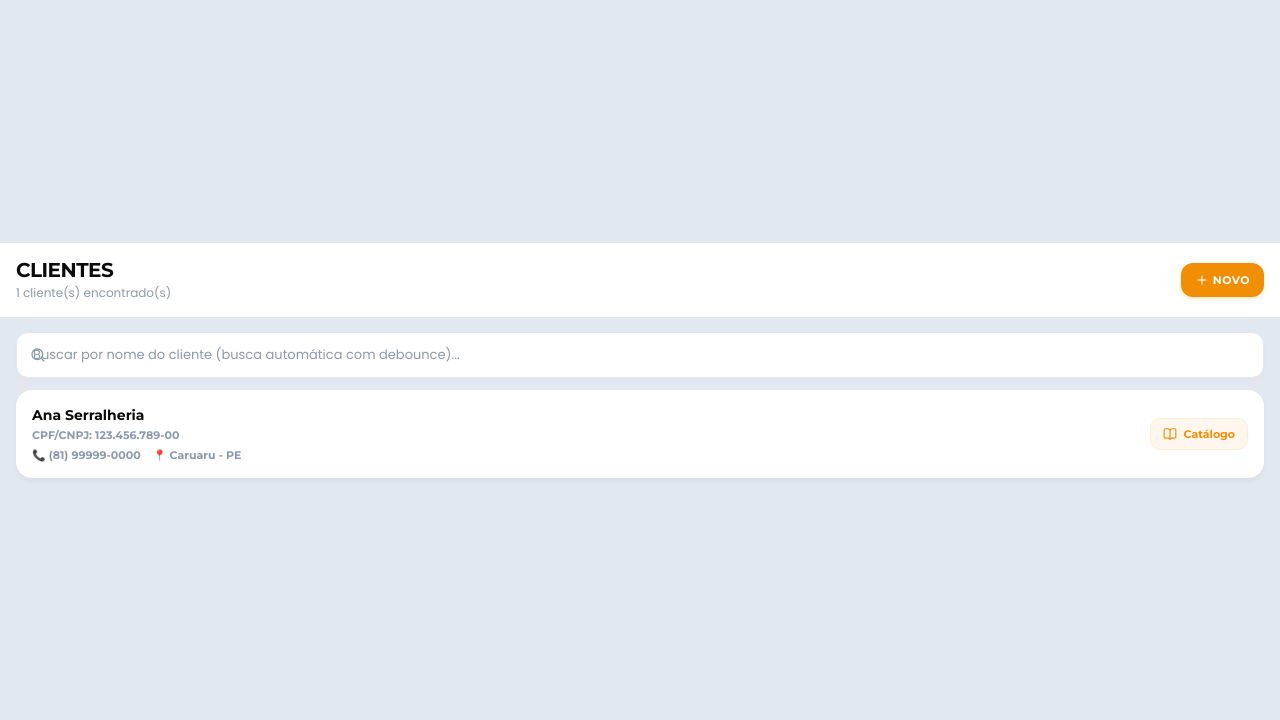
it: Clientes – cadastro › cadastra cliente enviando o payload normalizado e atualiza a lista
Click the button "NOVO": (1222, 280) [1181,262,1264,296]
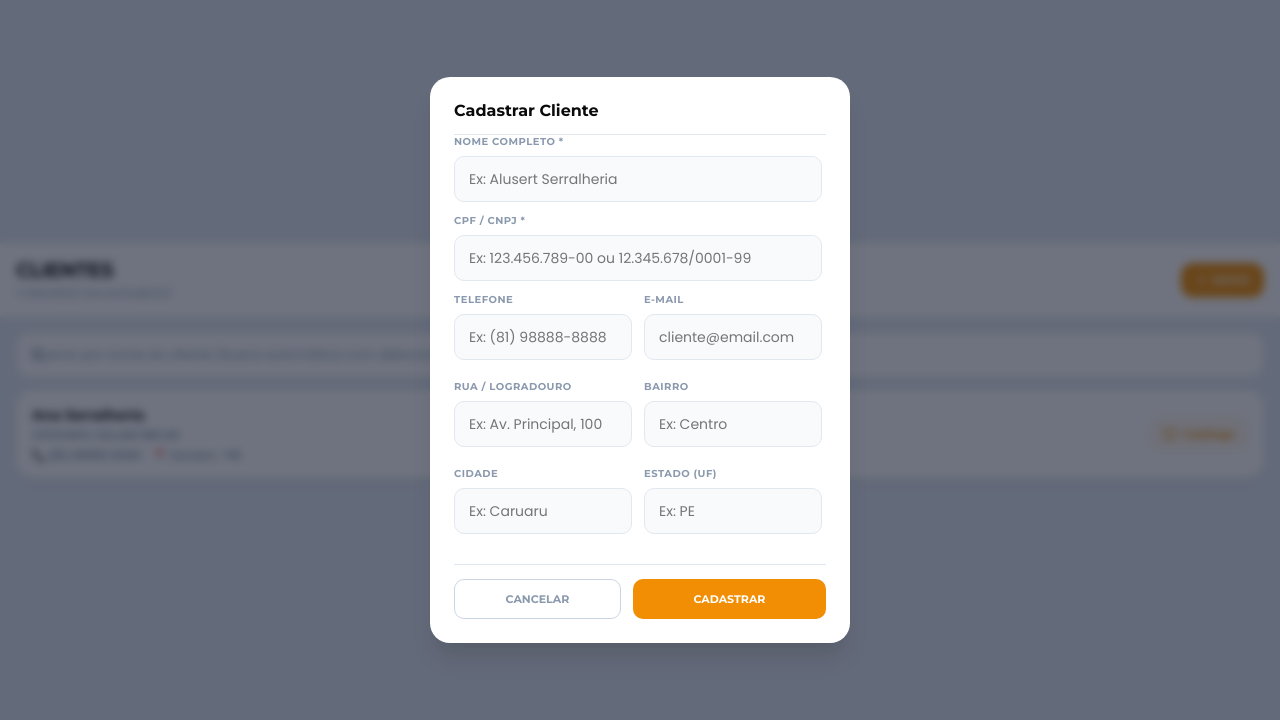
In the field labelled "NOME COMPLETO *": (638, 179) [454,156,822,202], type "  Carlos Obras  "
In the field labelled "CPF / CNPJ *": (638, 258) [454,235,822,281], type "111.222.333-44"
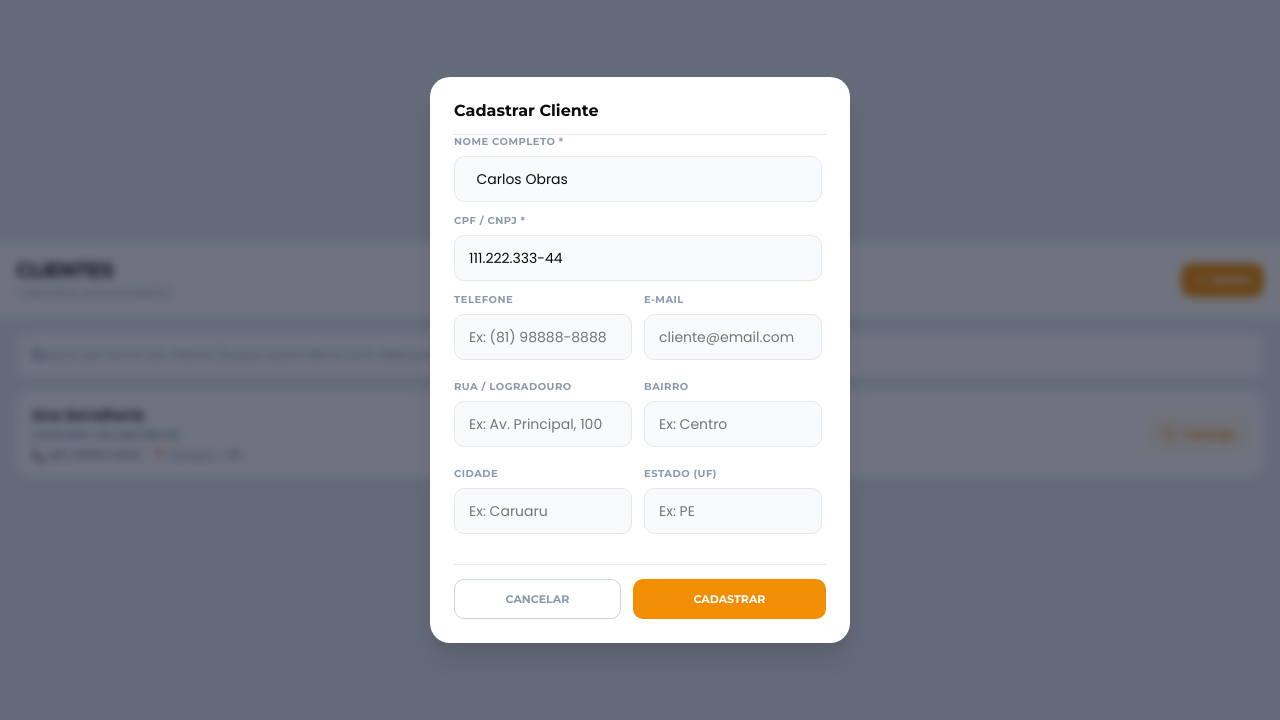
In the field labelled "TELEFONE": (543, 337) [454,314,632,360], type "(81) 98888-1111"
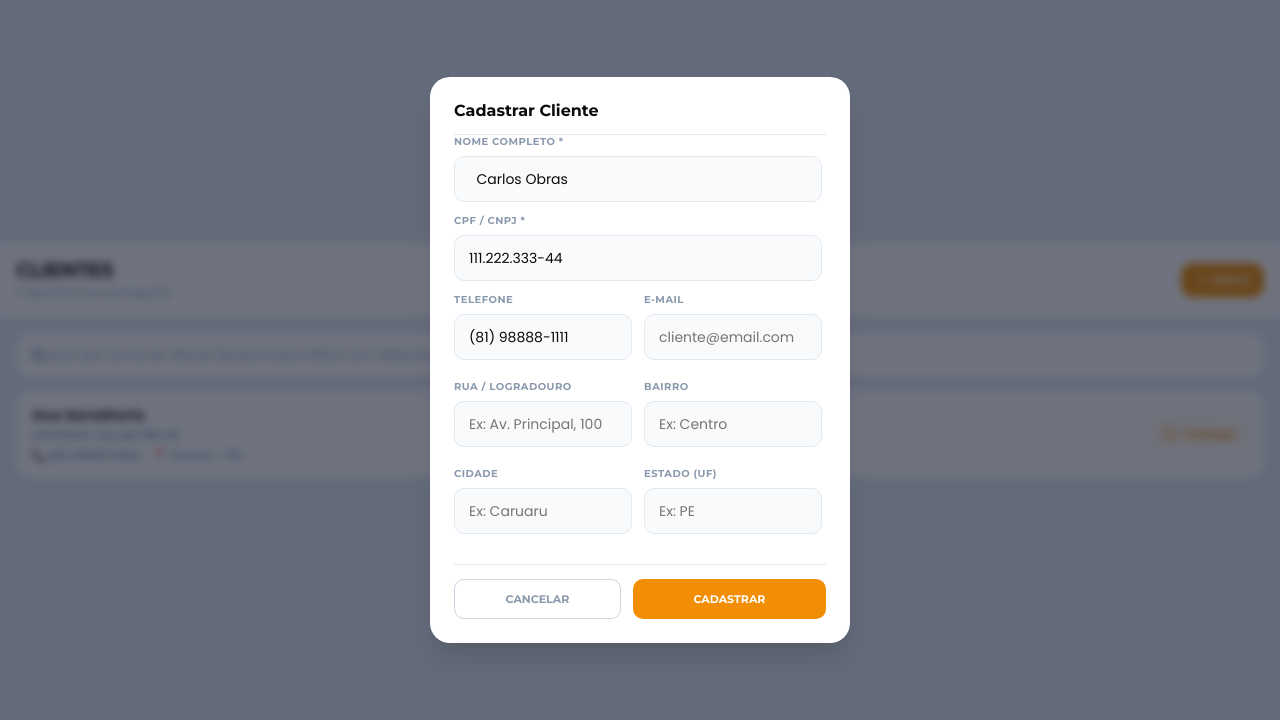
In the field labelled "CIDADE": (543, 511) [454,488,632,534], type "Recife"
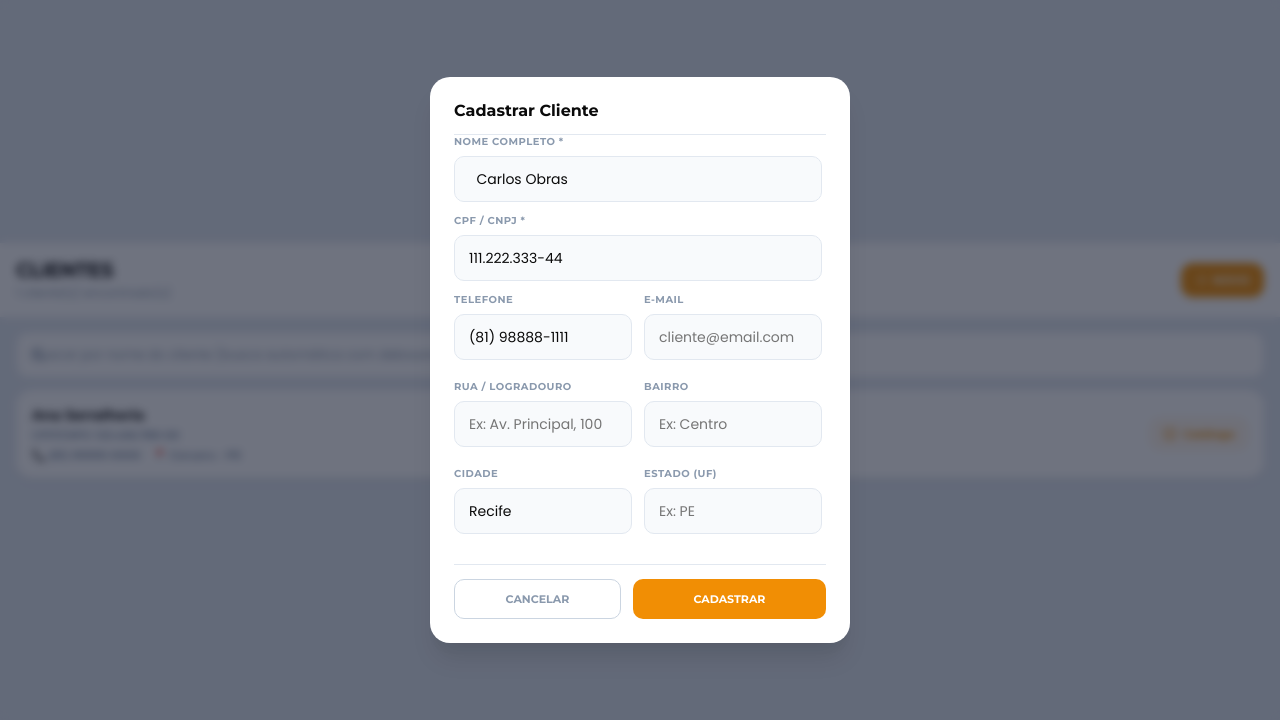
In the field labelled "ESTADO (UF)": (733, 511) [644,488,822,534], type "pe"
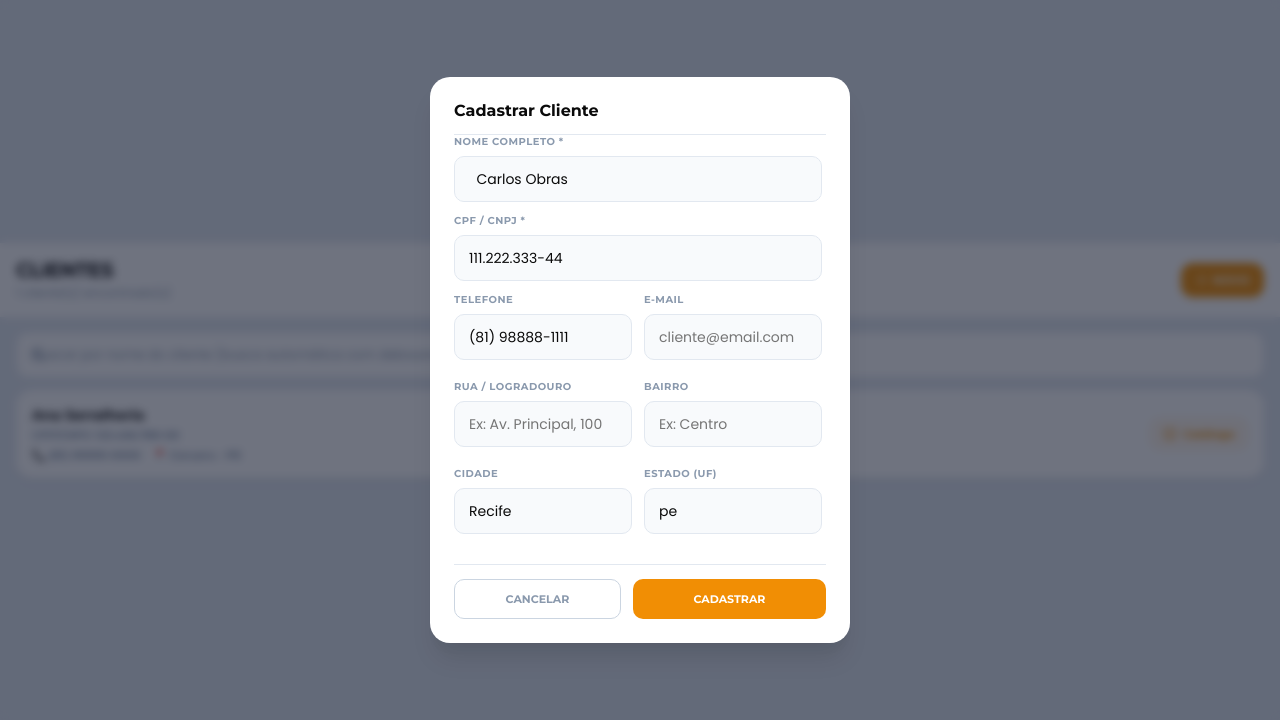
Click the button "CADASTRAR": (729, 599) [633,579,826,619]
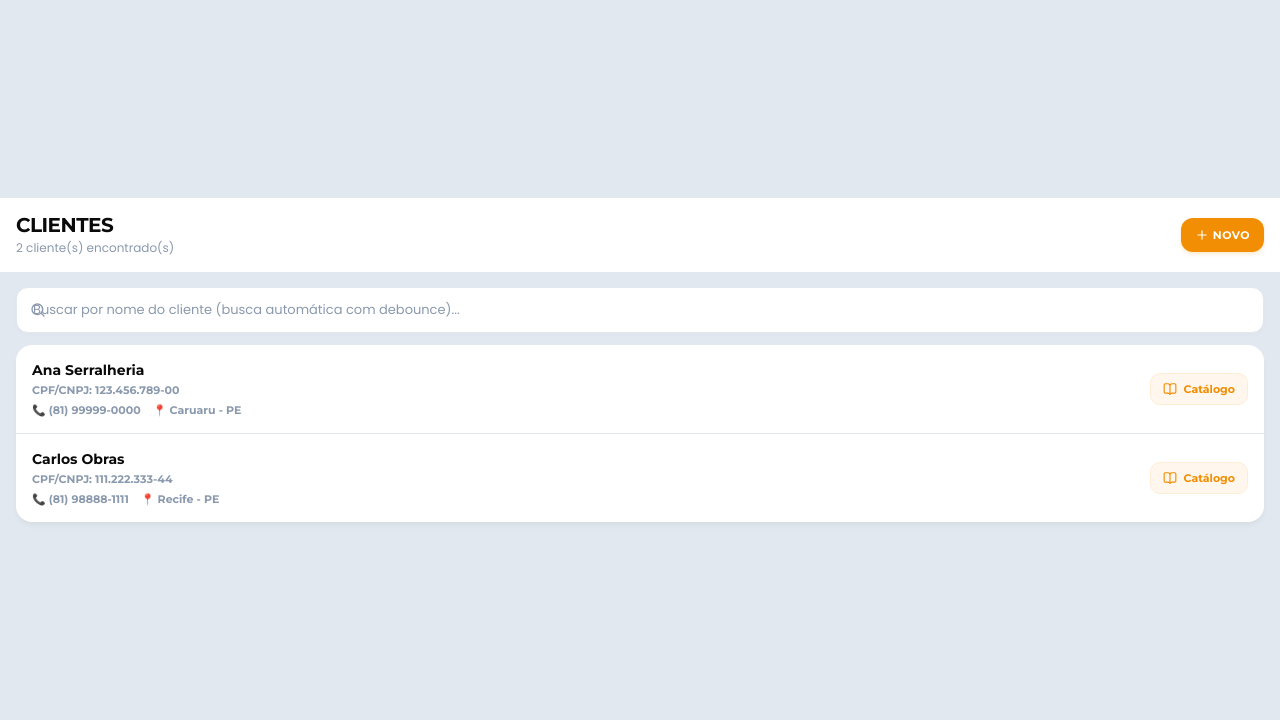
Check: the heading "Cadastrar Cliente" is gone
Check: the text "Carlos Obras" is shown, box [32,450,124,468]
Check: the text "2 cliente(s) encontrado(s)" is shown, box [16,239,174,257]
